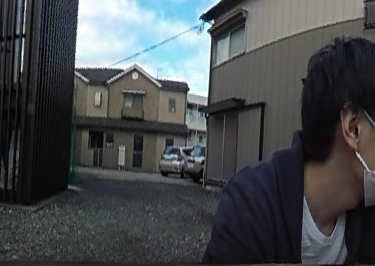person: (211, 33, 375, 266)
